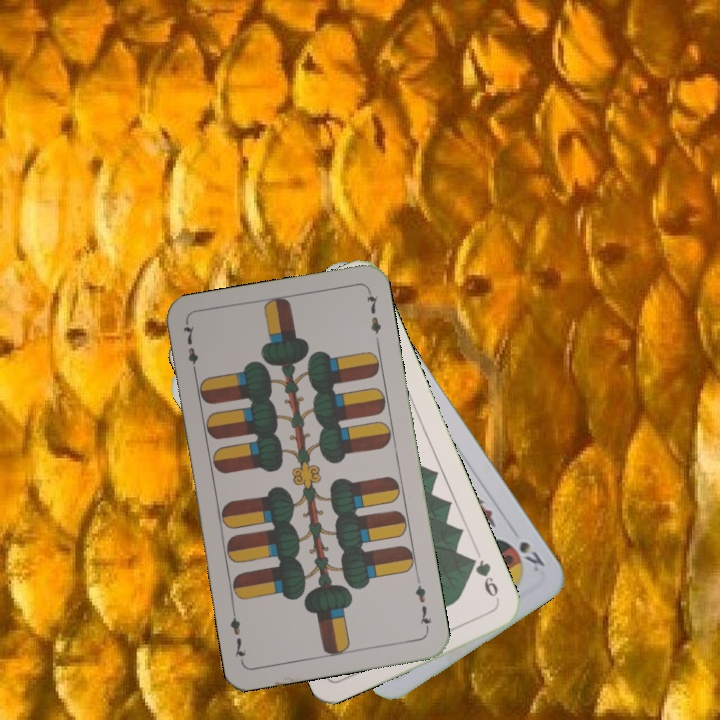E7: (411, 574, 434, 633), (179, 320, 201, 379)
G9: (465, 553, 503, 606)
SK: (515, 537, 548, 569)
